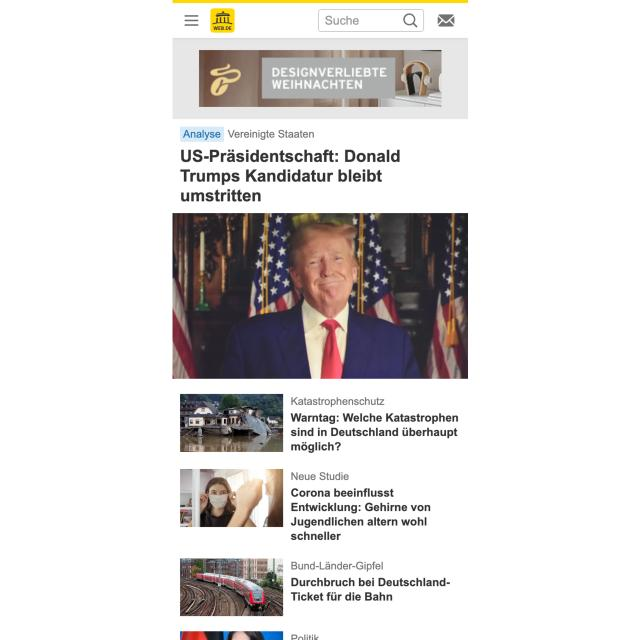logo: (210, 7, 235, 33)
navigation: (182, 12, 202, 28)
